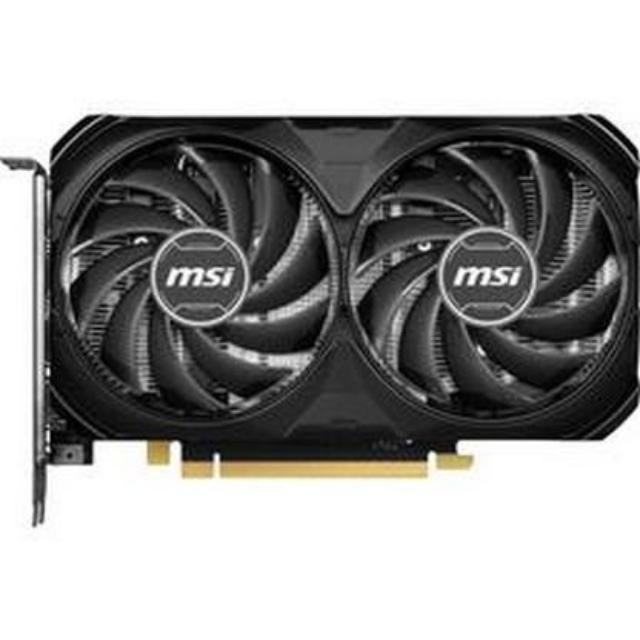GPU: (23, 109, 640, 480)
